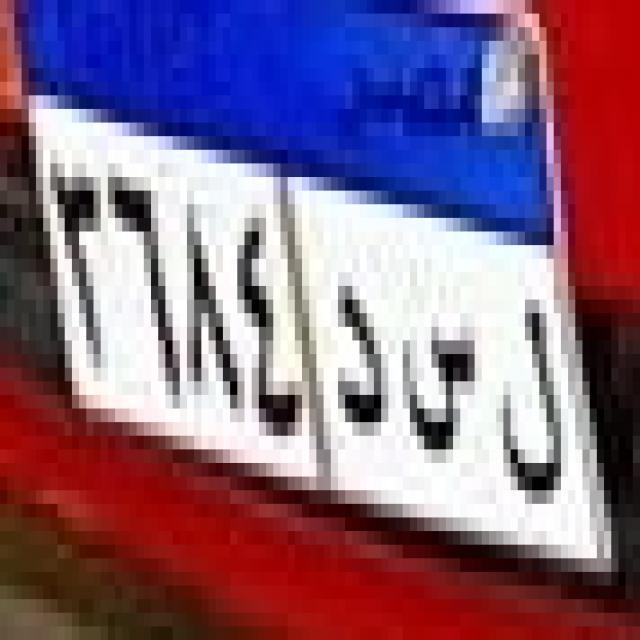3: (50, 148, 110, 381)
4: (236, 206, 292, 439)
6: (106, 164, 176, 391)
8: (180, 195, 238, 414)
Laam: (494, 288, 570, 502)
Seen: (401, 290, 488, 470)
daal: (332, 251, 393, 441)
